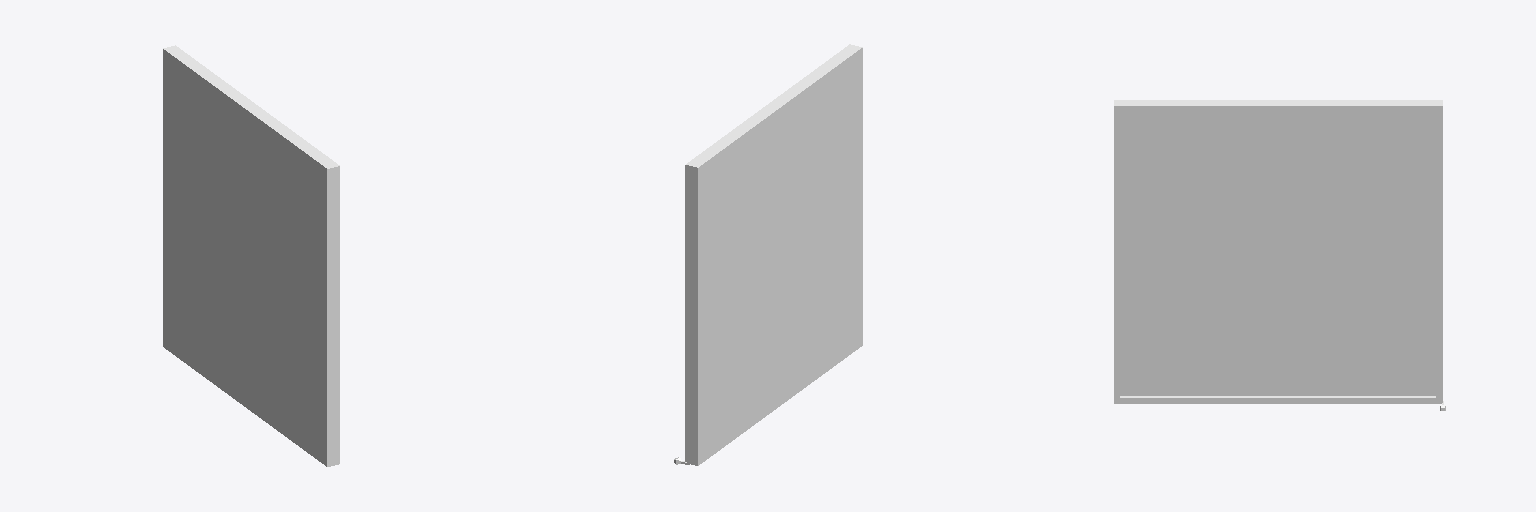
File: mapframe.obj
The picture shows the model from 3 angles: view 1: azimuth 30°, elevation 25°; view 2: azimuth 150°, elevation 25°; view 3: azimuth 270°, elevation 25°; orthographic projection.
Parts seen in each view (by area): view 1: main, borderLeft, borderTop; view 2: main, borderRight, borderTop; view 3: main, borderTop, borderBottom, borderRight, borderLeft.
Part boxes in pixels (x1,y1,x2,y2): main: (163,46,335,466); borderLeft: (336,172,339,458); borderTop: (176,48,336,163); main: (690,45,862,465); borderRight: (685,171,689,457); borderTop: (690,47,849,162); main: (1114,100,1442,395); borderTop: (1120,104,1435,111); borderBottom: (1120,396,1435,403); borderRight: (1436,112,1442,397); borderLeft: (1114,112,1119,397).
Size of the model in its own units: 0.0817 by 1.01 by 1.01.